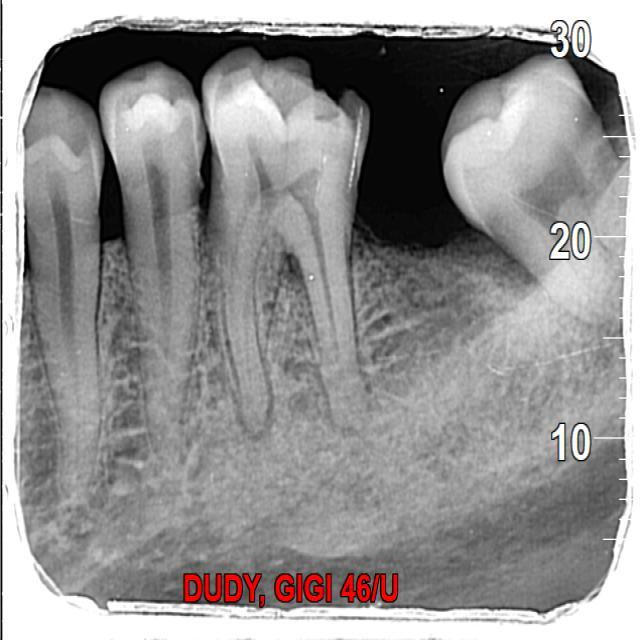individual-tooth-8tto: (208, 50, 368, 448), (102, 64, 213, 464)
